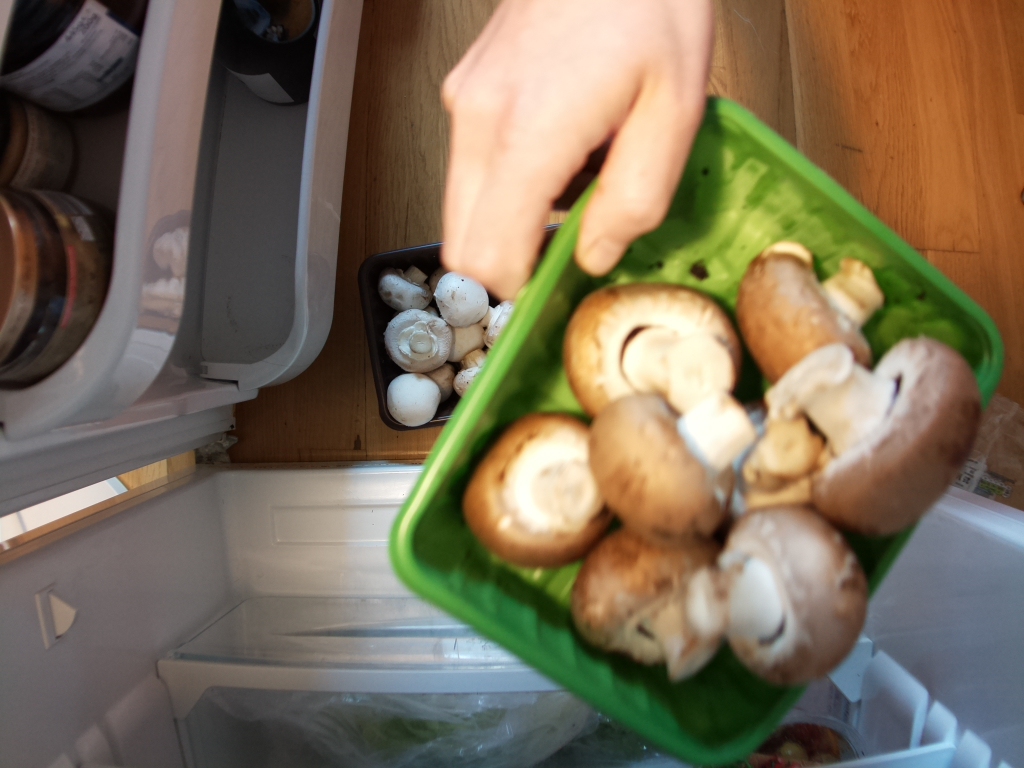mushrooms: (387, 90, 999, 751), (362, 235, 513, 423)
